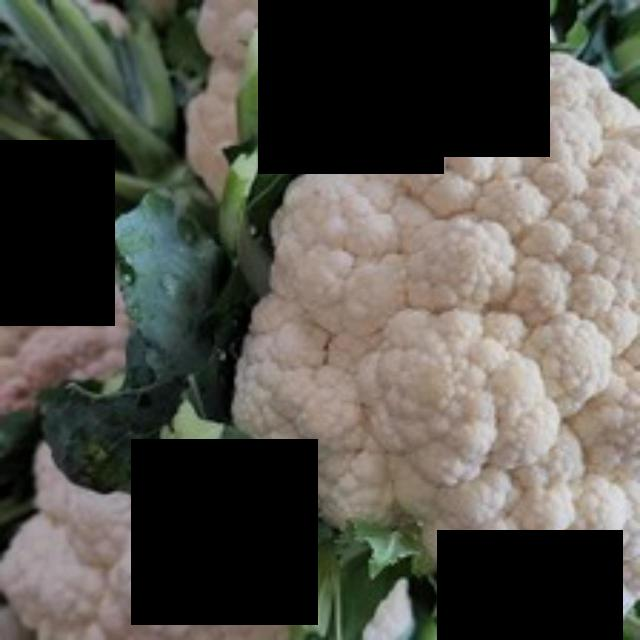cauliflower: (231, 43, 637, 637)
